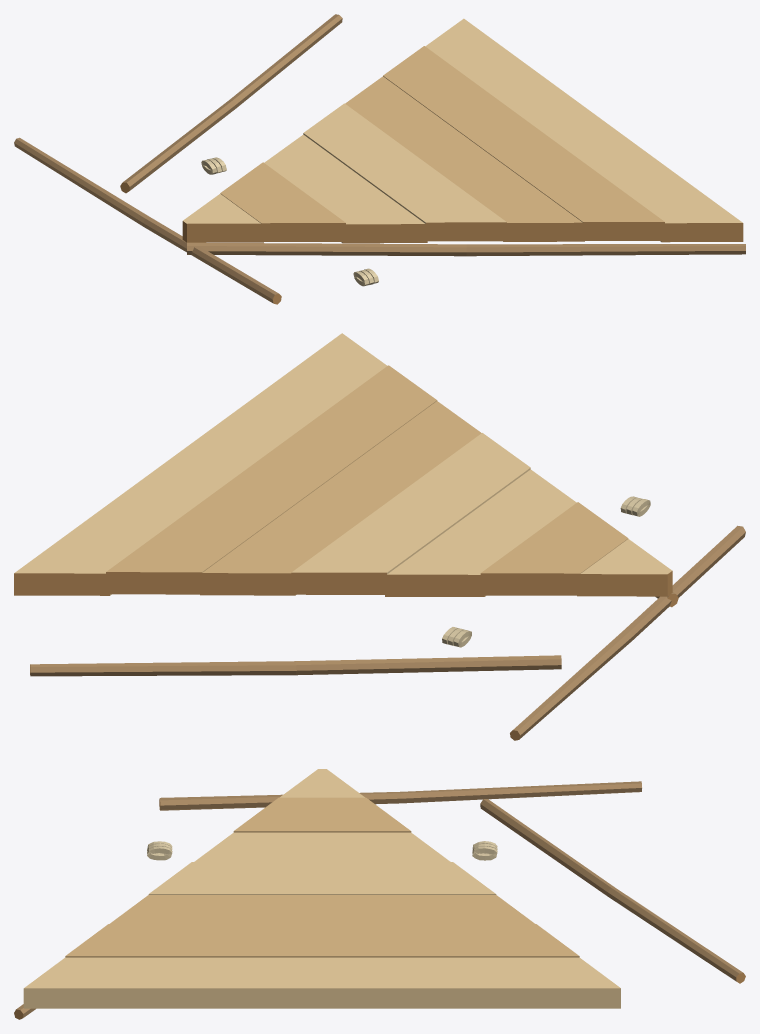
The model's file is architecture.floor.board.fbx.
The picture shows the model from 3 angles, top to bottom: view 1: azimuth 30°, elevation 25°; view 2: azimuth 150°, elevation 25°; view 3: azimuth 270°, elevation 25°; orthographic projection. The views are drawn at different scales.
Parts seen in each view (by area): view 1: FLR_board_2__EXPORT, FLR_board_1__EXPORT, FLR_board_0__EXPORT, FLR_seam_beam__EXPORT, FLR_joist_0__EXPORT, FLR_joist_1__EXPORT, FLR_rope__EXPORT; view 2: FLR_board_2__EXPORT, FLR_board_1__EXPORT, FLR_board_0__EXPORT, FLR_joist_1__EXPORT, FLR_joist_0__EXPORT, FLR_rope__EXPORT; view 3: FLR_board_2__EXPORT, FLR_board_1__EXPORT, FLR_board_0__EXPORT, FLR_joist_0__EXPORT, FLR_joist_1__EXPORT, FLR_rope__EXPORT.
Part boxes in pixels (<box>): FLR_board_2__EXPORT: <box>383,18,743,242</box>; FLR_board_1__EXPORT: <box>303,76,584,241</box>; FLR_board_0__EXPORT: <box>182,134,427,243</box>; FLR_seam_beam__EXPORT: <box>187,242,745,256</box>; FLR_joist_0__EXPORT: <box>14,137,281,304</box>; FLR_joist_1__EXPORT: <box>120,14,342,193</box>; FLR_rope__EXPORT: <box>201,157,378,286</box>; FLR_board_2__EXPORT: <box>14,333,437,595</box>; FLR_board_1__EXPORT: <box>200,401,530,595</box>; FLR_board_0__EXPORT: <box>385,469,672,596</box>; FLR_joist_1__EXPORT: <box>30,655,561,676</box>; FLR_joist_0__EXPORT: <box>510,525,745,740</box>; FLR_rope__EXPORT: <box>442,496,650,647</box>; FLR_board_2__EXPORT: <box>23,924,620,1008</box>; FLR_board_1__EXPORT: <box>110,862,534,923</box>; FLR_board_0__EXPORT: <box>194,769,450,861</box>; FLR_joist_0__EXPORT: <box>159,781,641,810</box>; FLR_joist_1__EXPORT: <box>480,799,745,983</box>; FLR_rope__EXPORT: <box>147,841,497,860</box>.
Size of the model in its own units: 1.35 by 0.0965 by 1.8.
